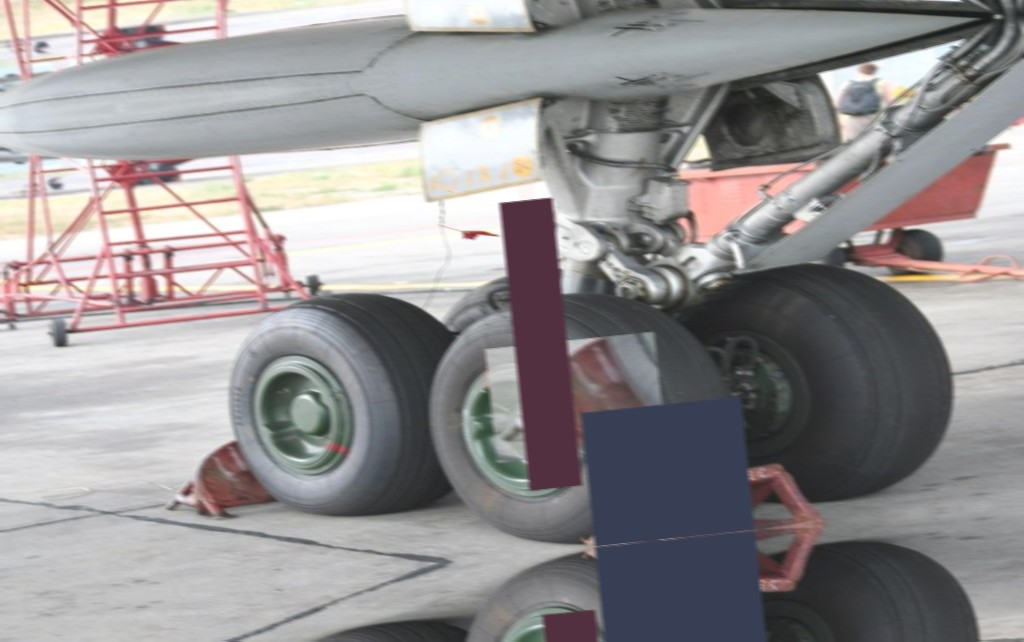chock: (485, 332, 665, 464), (573, 456, 827, 548), (581, 525, 834, 617), (155, 438, 277, 526)
wheel: (411, 278, 746, 557), (677, 251, 965, 512), (216, 283, 457, 529), (438, 539, 773, 642), (706, 534, 994, 642), (437, 268, 574, 331)
